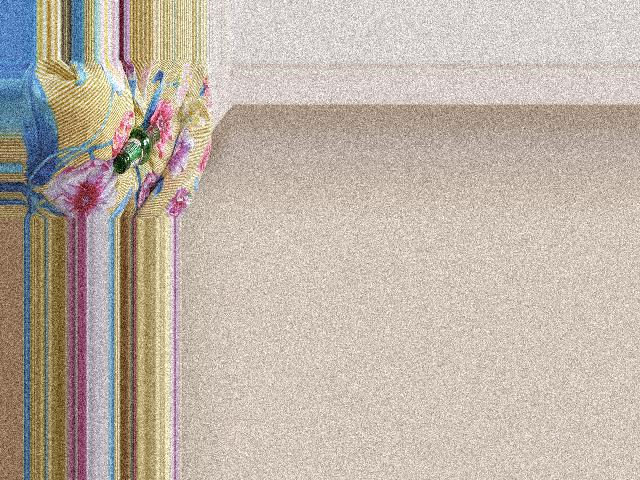beer: (112, 122, 159, 174)
